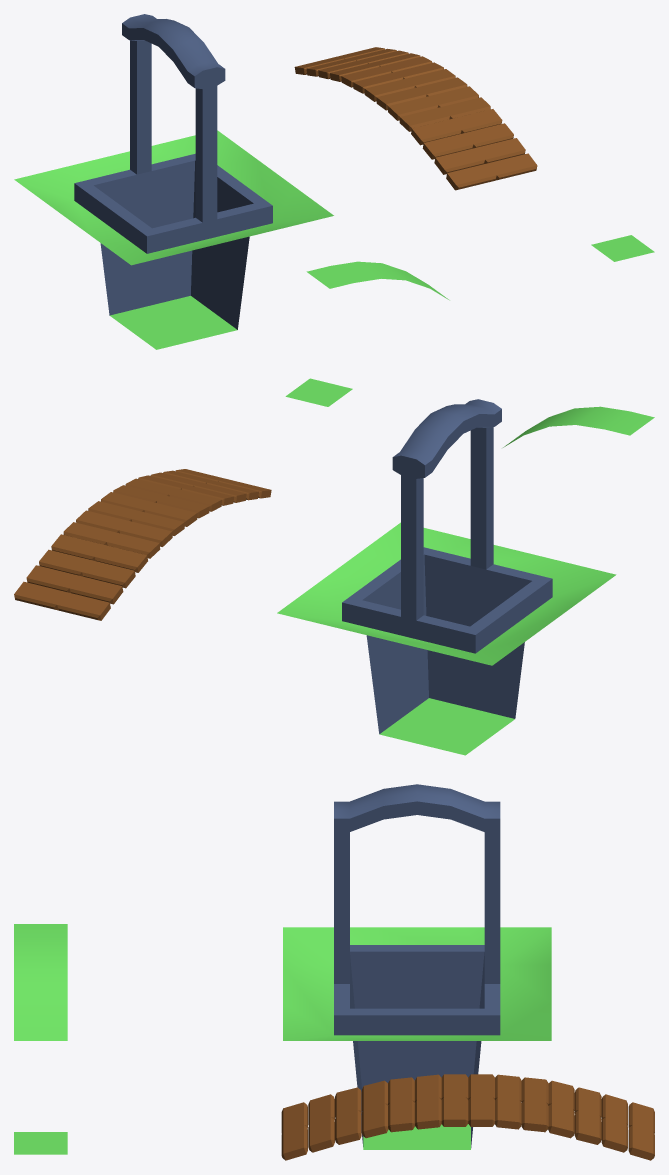
File: Demo Ground.glb
The picture shows the model from 3 angles, top to bottom: view 1: azimuth 30°, elevation 25°; view 2: azimuth 150°, elevation 25°; view 3: azimuth 270°, elevation 25°; orthographic projection. The views are drawn at different scales.
Parts seen in each view (by area): view 1: Floor.001, Planck Instancer.015, Ramp, Floor; view 2: Floor.001, Planck Instancer.015, Ramp, Floor; view 3: Floor.001, Planck Instancer.015, Ramp, Floor.
Part boxes in pixels (<box>): Floor.001: <box>14,14,333,349</box>; Planck Instancer.015: <box>294,47,537,190</box>; Ramp: <box>306,261,449,300</box>; Floor: <box>591,235,654,261</box>; Floor.001: <box>277,399,616,755</box>; Planck Instancer.015: <box>14,469,271,620</box>; Ramp: <box>503,406,654,447</box>; Floor: <box>285,378,352,406</box>; Floor.001: <box>283,784,551,1149</box>; Planck Instancer.015: <box>281,1074,654,1160</box>; Ramp: <box>14,924,67,1040</box>; Floor: <box>14,1132,67,1154</box>.
Size of the model in its own units: 20 by 13.9 by 23.85.
